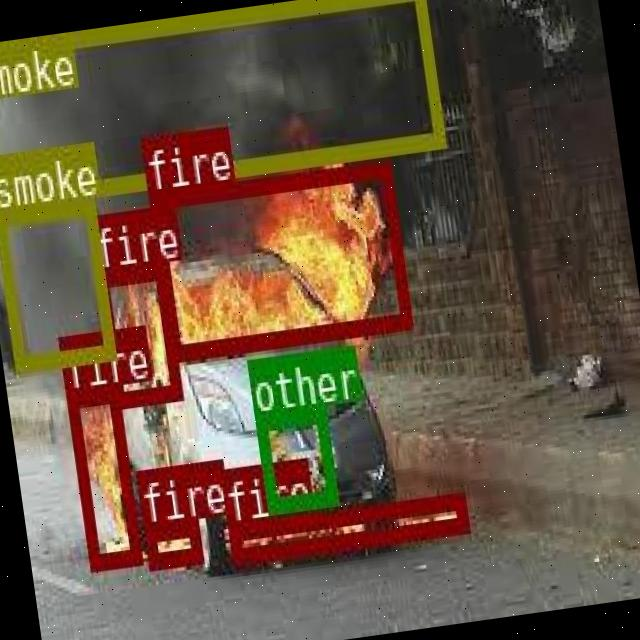fire: (146, 159, 412, 359), (225, 490, 468, 562), (64, 383, 140, 567), (95, 262, 180, 404), (143, 518, 201, 566)
smoke: (0, 0, 442, 209), (0, 199, 114, 369)
